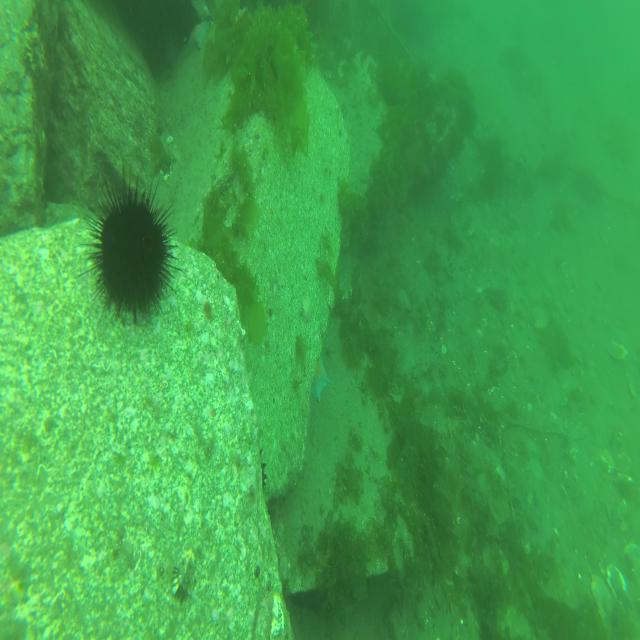echinus: (82, 162, 188, 337)
holothurian: (411, 348, 439, 381), (432, 415, 461, 444)
starfish: (309, 354, 332, 405), (187, 17, 211, 52)
